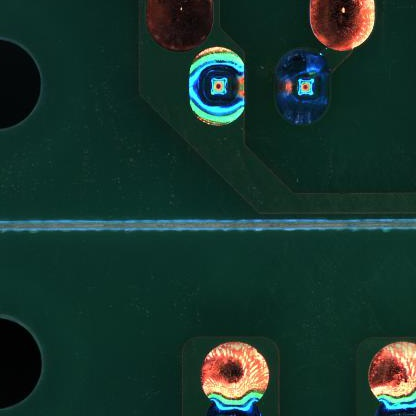spot: (187, 45, 245, 129), (271, 50, 332, 126)
